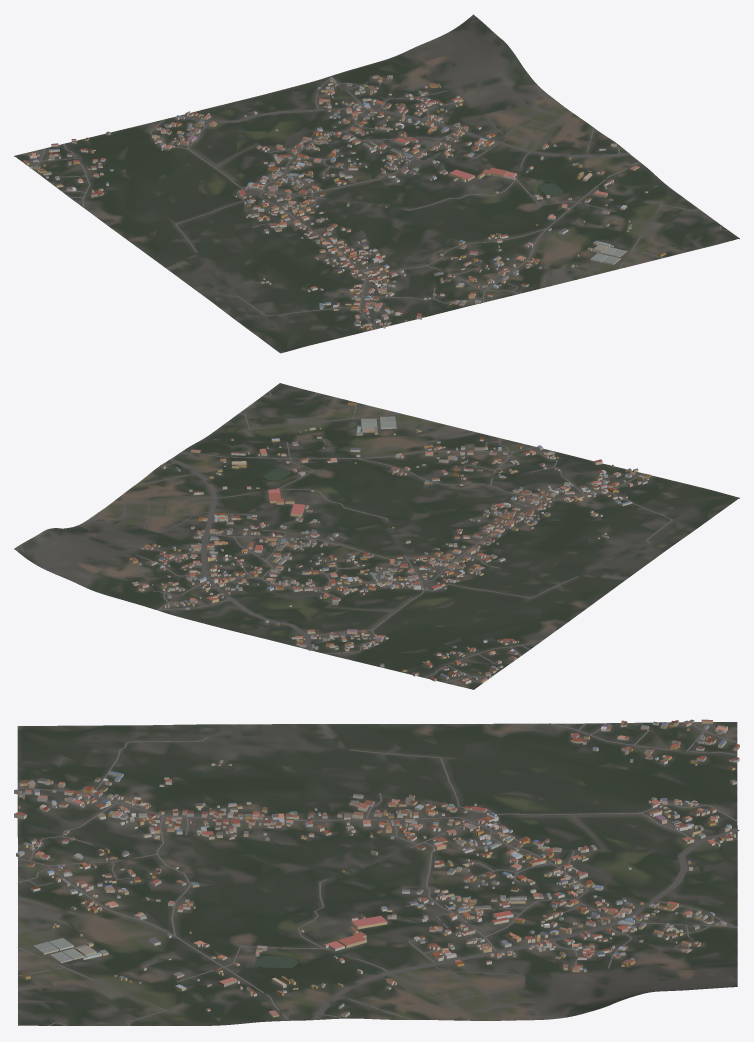
3 renders of one model, top to bottom at view 1: azimuth 30°, elevation 25°; view 2: azimuth 150°, elevation 25°; view 3: azimuth 270°, elevation 25°, orthographic. The views are drawn at different scales.
Visible parts, largest first — view 1: ground, buildings, roads; view 2: ground, buildings, roads; view 3: ground, buildings, roads.
Boxes of the visible parts, x1=… form: ground: x1=14, y1=14, x2=739, y2=353; buildings: x1=23, y1=75, x2=665, y2=329; roads: x1=28, y1=17, x2=728, y2=329; ground: x1=14, y1=383, x2=739, y2=689; buildings: x1=129, y1=401, x2=650, y2=684; roads: x1=17, y1=391, x2=672, y2=682; ground: x1=17, y1=722, x2=737, y2=1025; buildings: x1=14, y1=719, x2=739, y2=1017; roads: x1=17, y1=722, x2=739, y2=1025.
Bounding box in the file's own units: 1403 × 95.9 × 1414.
